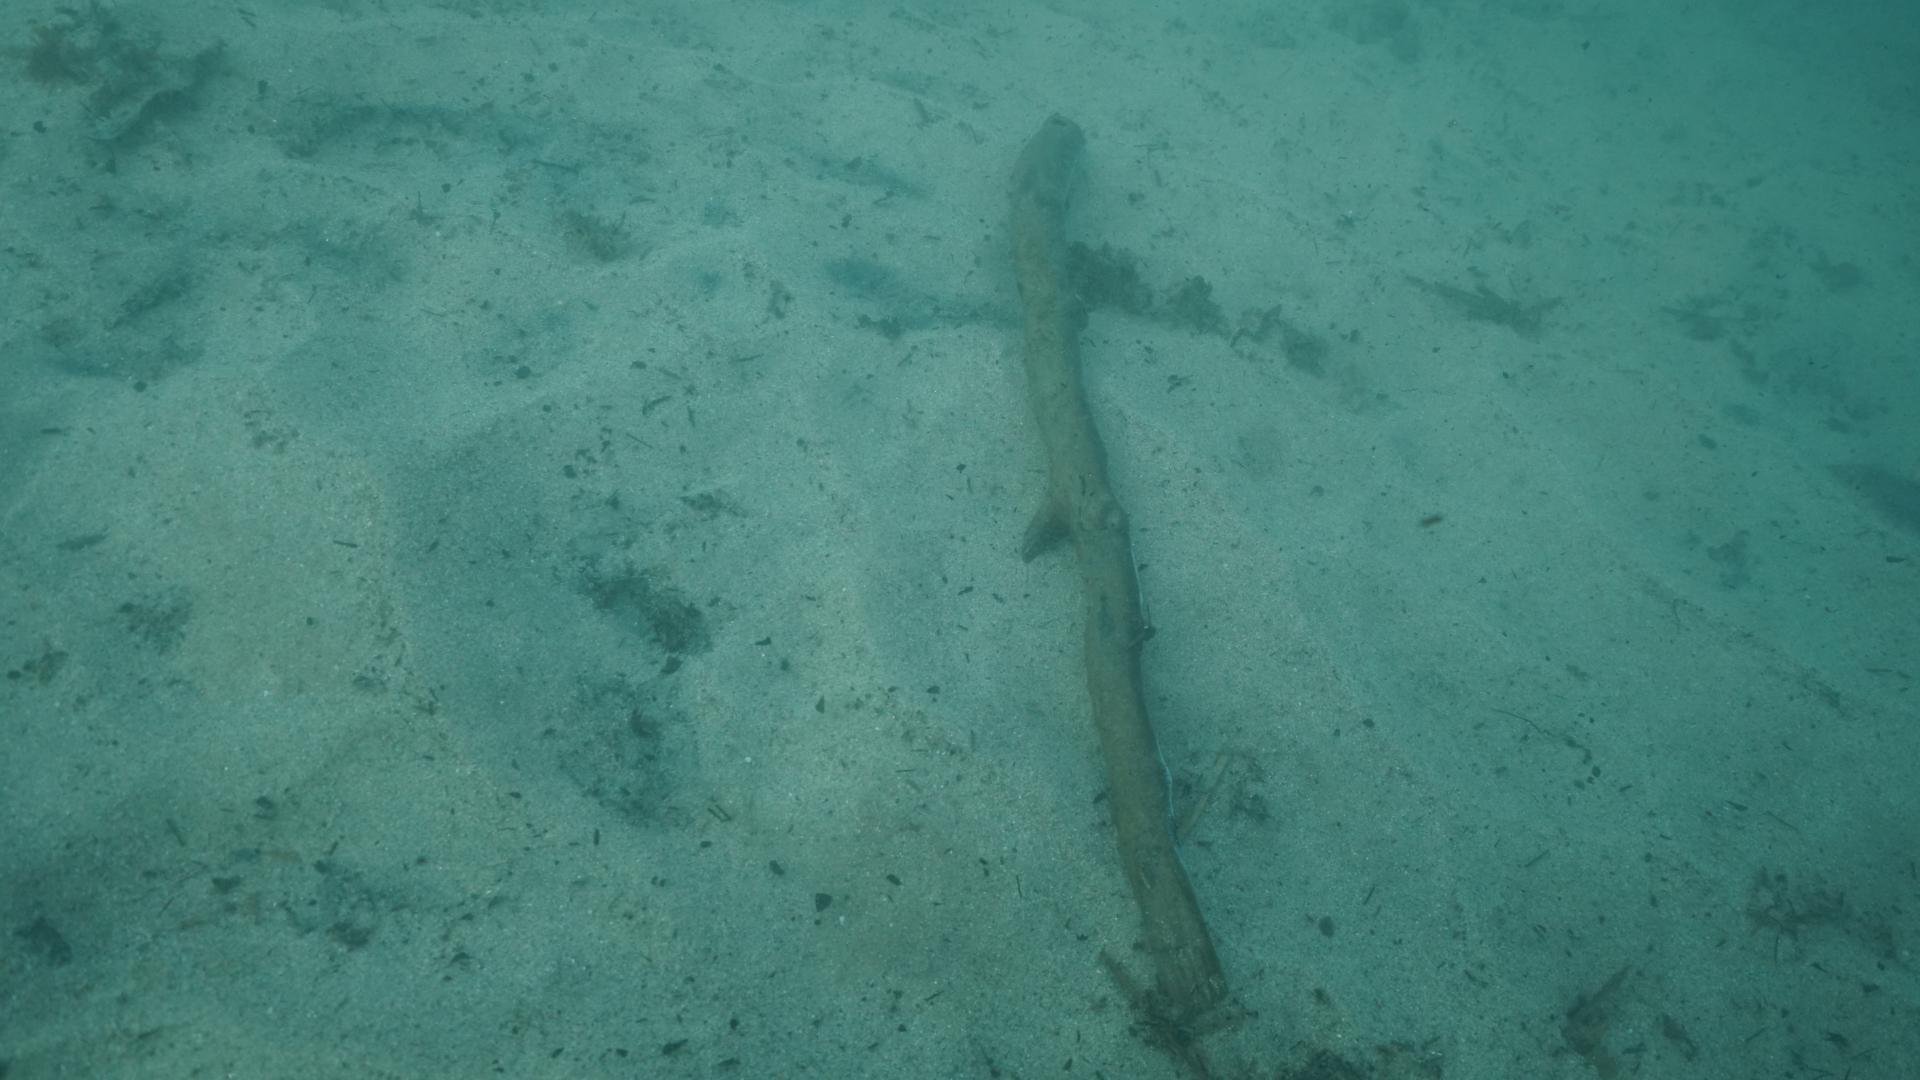wood: (1007, 111, 1234, 1021)
